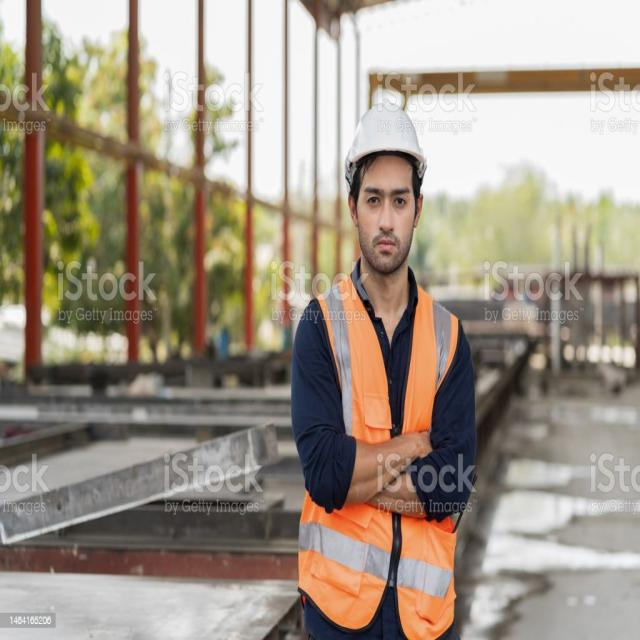helmet: (338, 104, 441, 184)
no-goggles: (352, 172, 426, 221)
vest: (313, 264, 472, 640)
